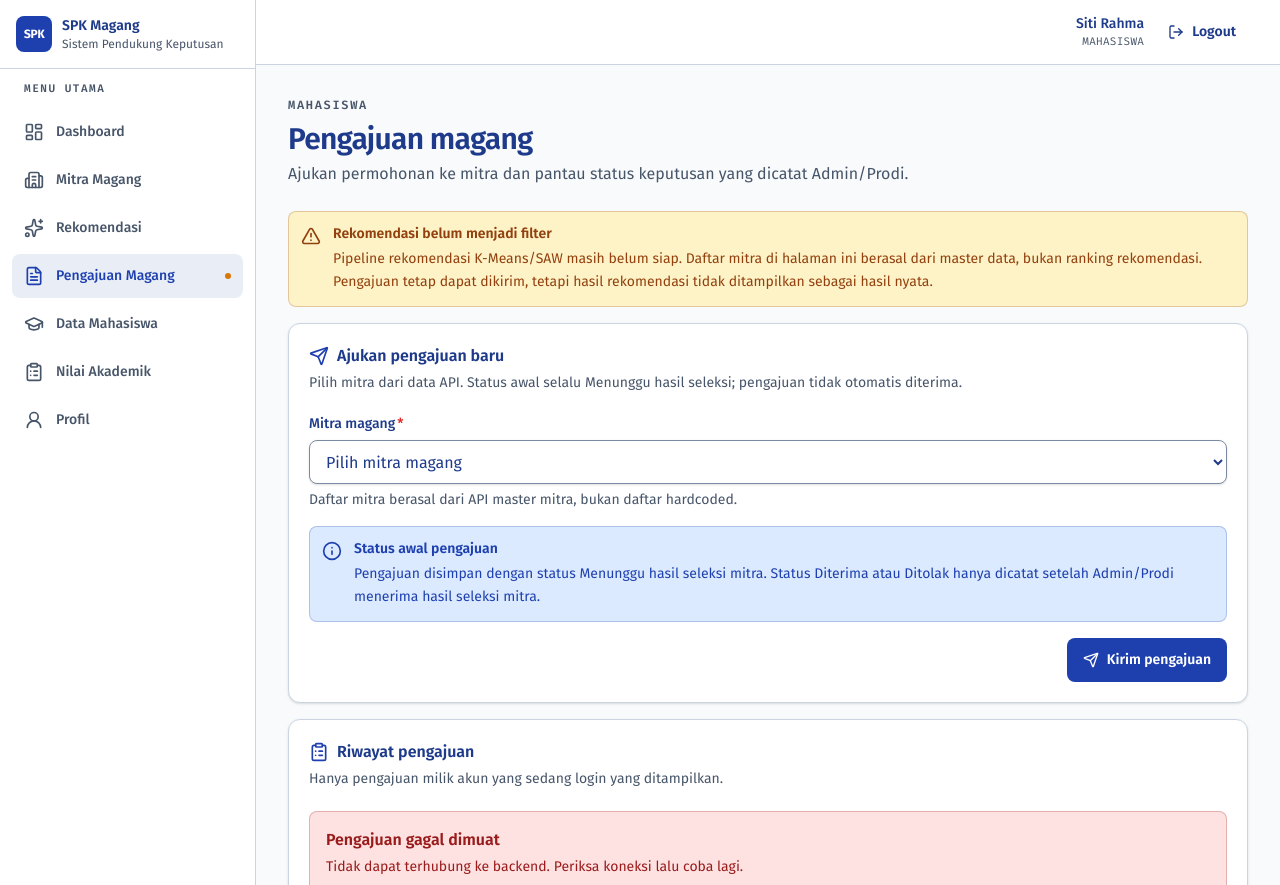
it: StudentApplicationsPage › memuat ulang daftar lengkap setelah pengiriman saat daftar awal gagal
expect the text "Pengajuan gagal dimuat" is shown: met, box left=326, top=830, right=500, bottom=848
Select "PT Maju" in the dropdown labelled "Mitra magang*" at (768, 462), box left=309, top=440, right=1227, bottom=484
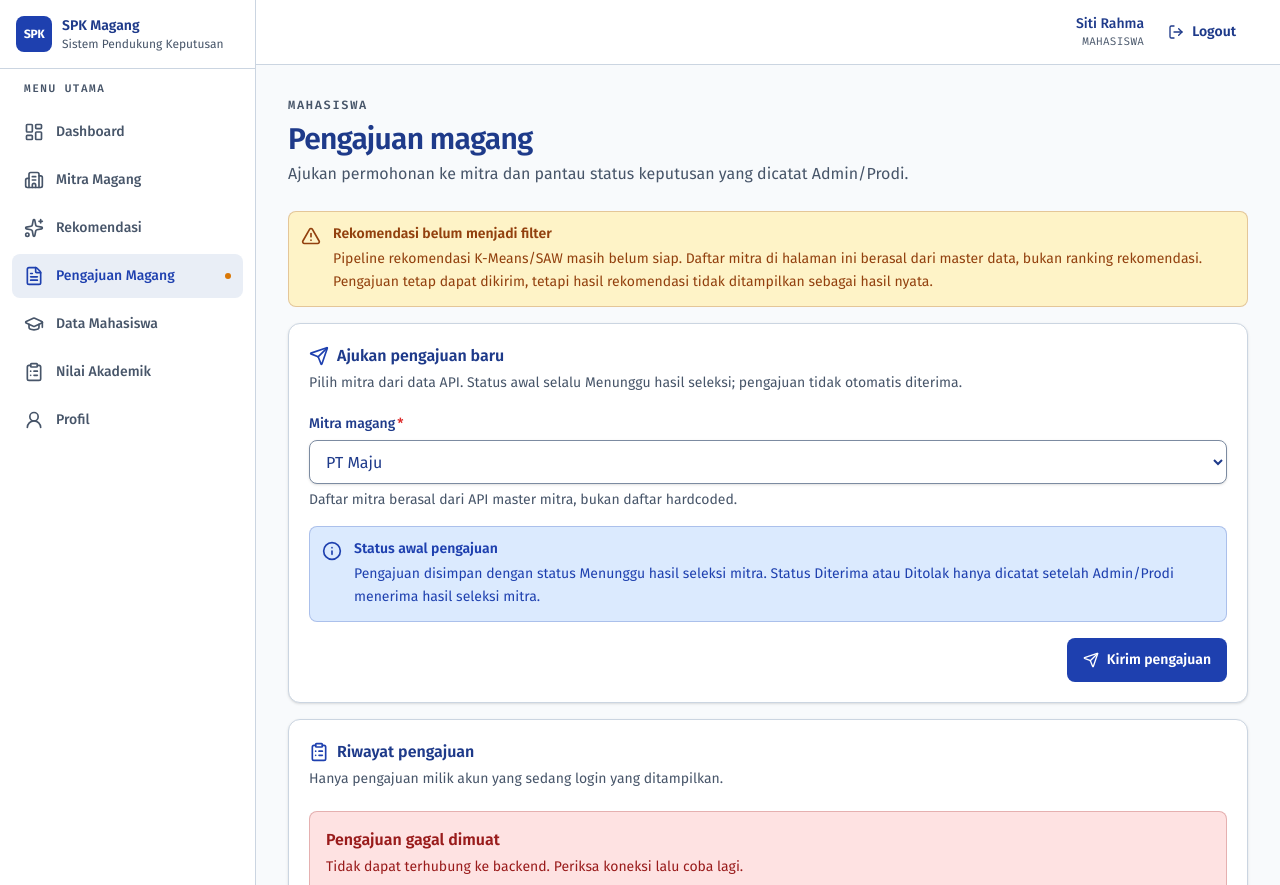
Click the button "Kirim pengajuan" at (1147, 660), box left=1067, top=638, right=1227, bottom=682
(page scrolled)
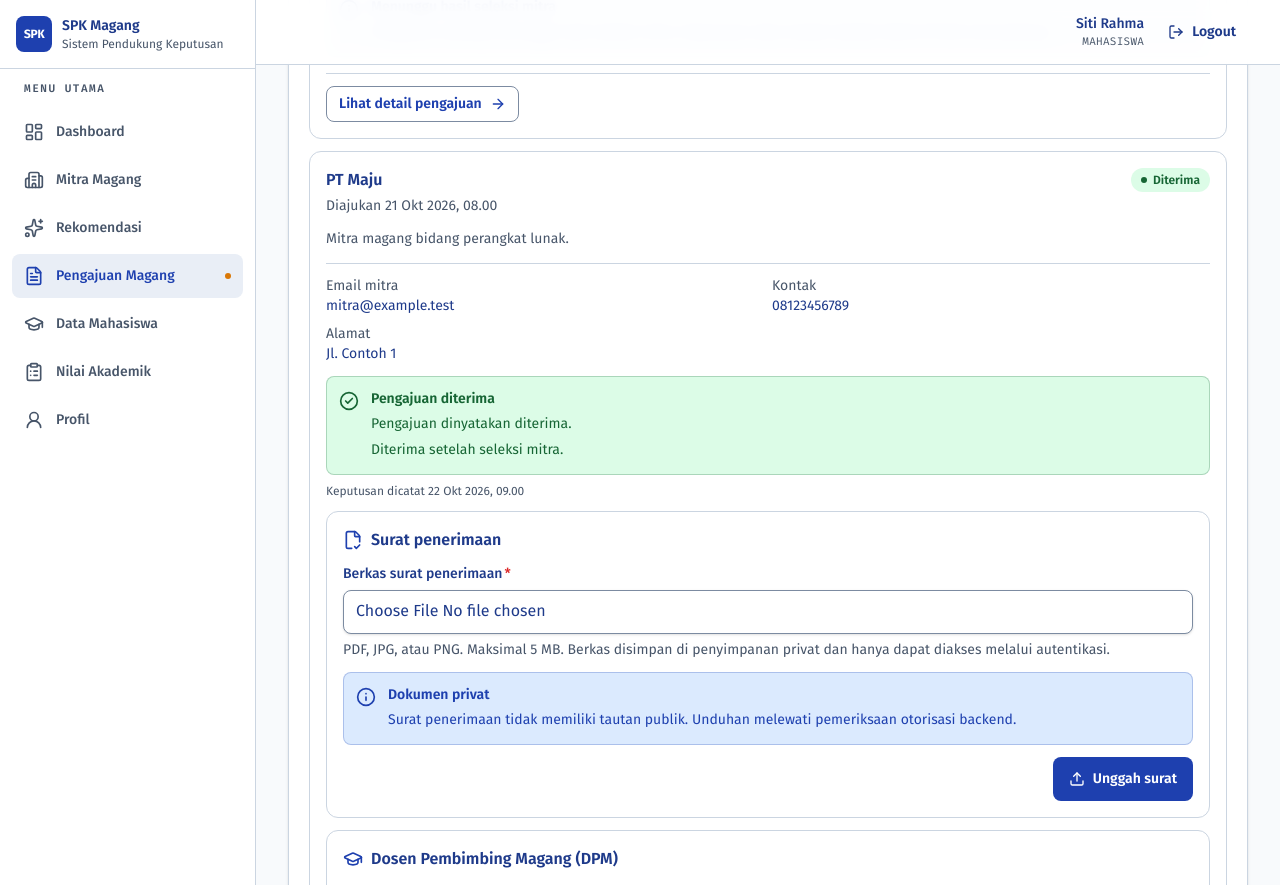
expect the text "Diterima setelah seleksi mitra." is shown: met, box left=371, top=439, right=572, bottom=462
